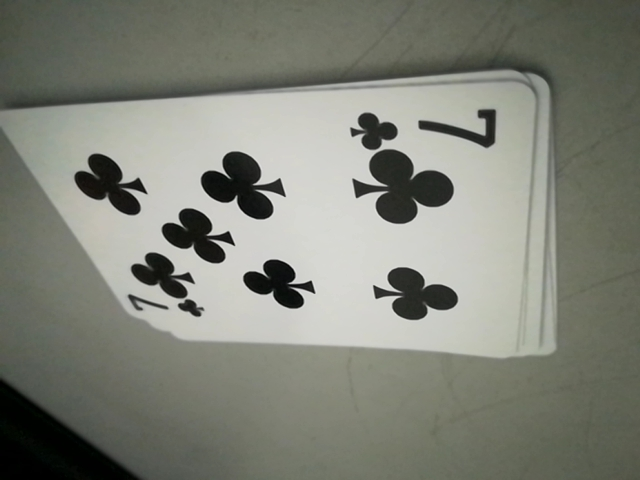mh 7: (346, 97, 503, 152), (118, 281, 202, 325)
